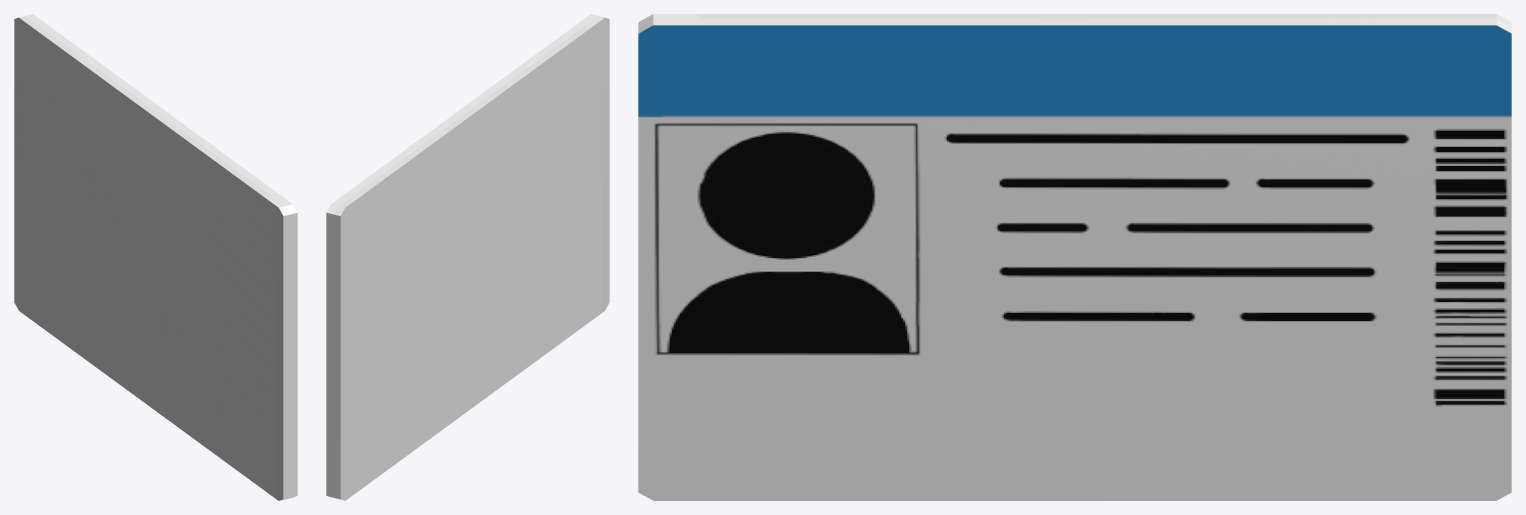
Rendered from card_textured_final.fbx.
3 views of the same model, side by side, from view 1: azimuth 30°, elevation 25°; view 2: azimuth 150°, elevation 25°; view 3: azimuth 270°, elevation 25° (orthographic). The views are drawn at different scales.
Visible parts, largest first — view 1: Cube; view 2: Cube; view 3: Cube.
Boxes of the visible parts, bbox=[...] form: Cube: bbox=[14, 14, 297, 500]; Cube: bbox=[326, 14, 609, 500]; Cube: bbox=[638, 14, 1511, 500].
Bounding box in the file's own units: 2.92 × 57.03 × 94.9.
